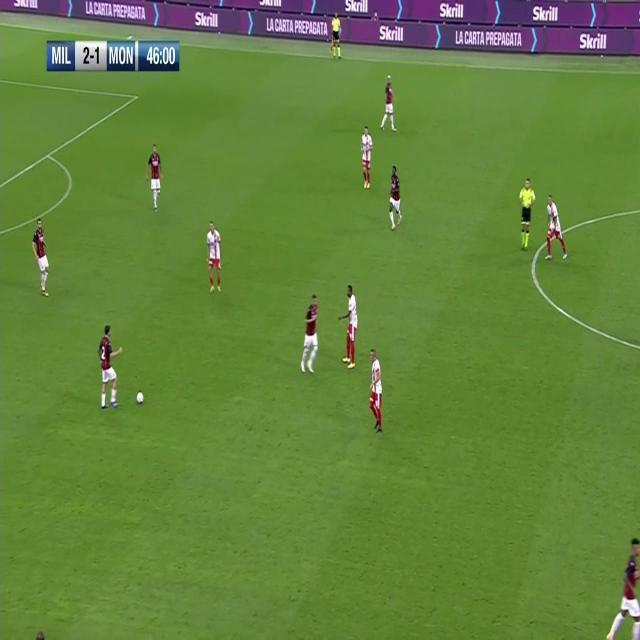ball: (136, 390, 145, 406)
player: (607, 539, 640, 640), (97, 323, 124, 410), (338, 284, 360, 369), (299, 292, 321, 376), (544, 191, 568, 261), (32, 215, 52, 298), (367, 347, 385, 436), (205, 219, 224, 297), (146, 141, 164, 215), (387, 163, 404, 233), (380, 73, 398, 134), (360, 124, 374, 192)
referee: (519, 176, 536, 251), (330, 10, 343, 63)
